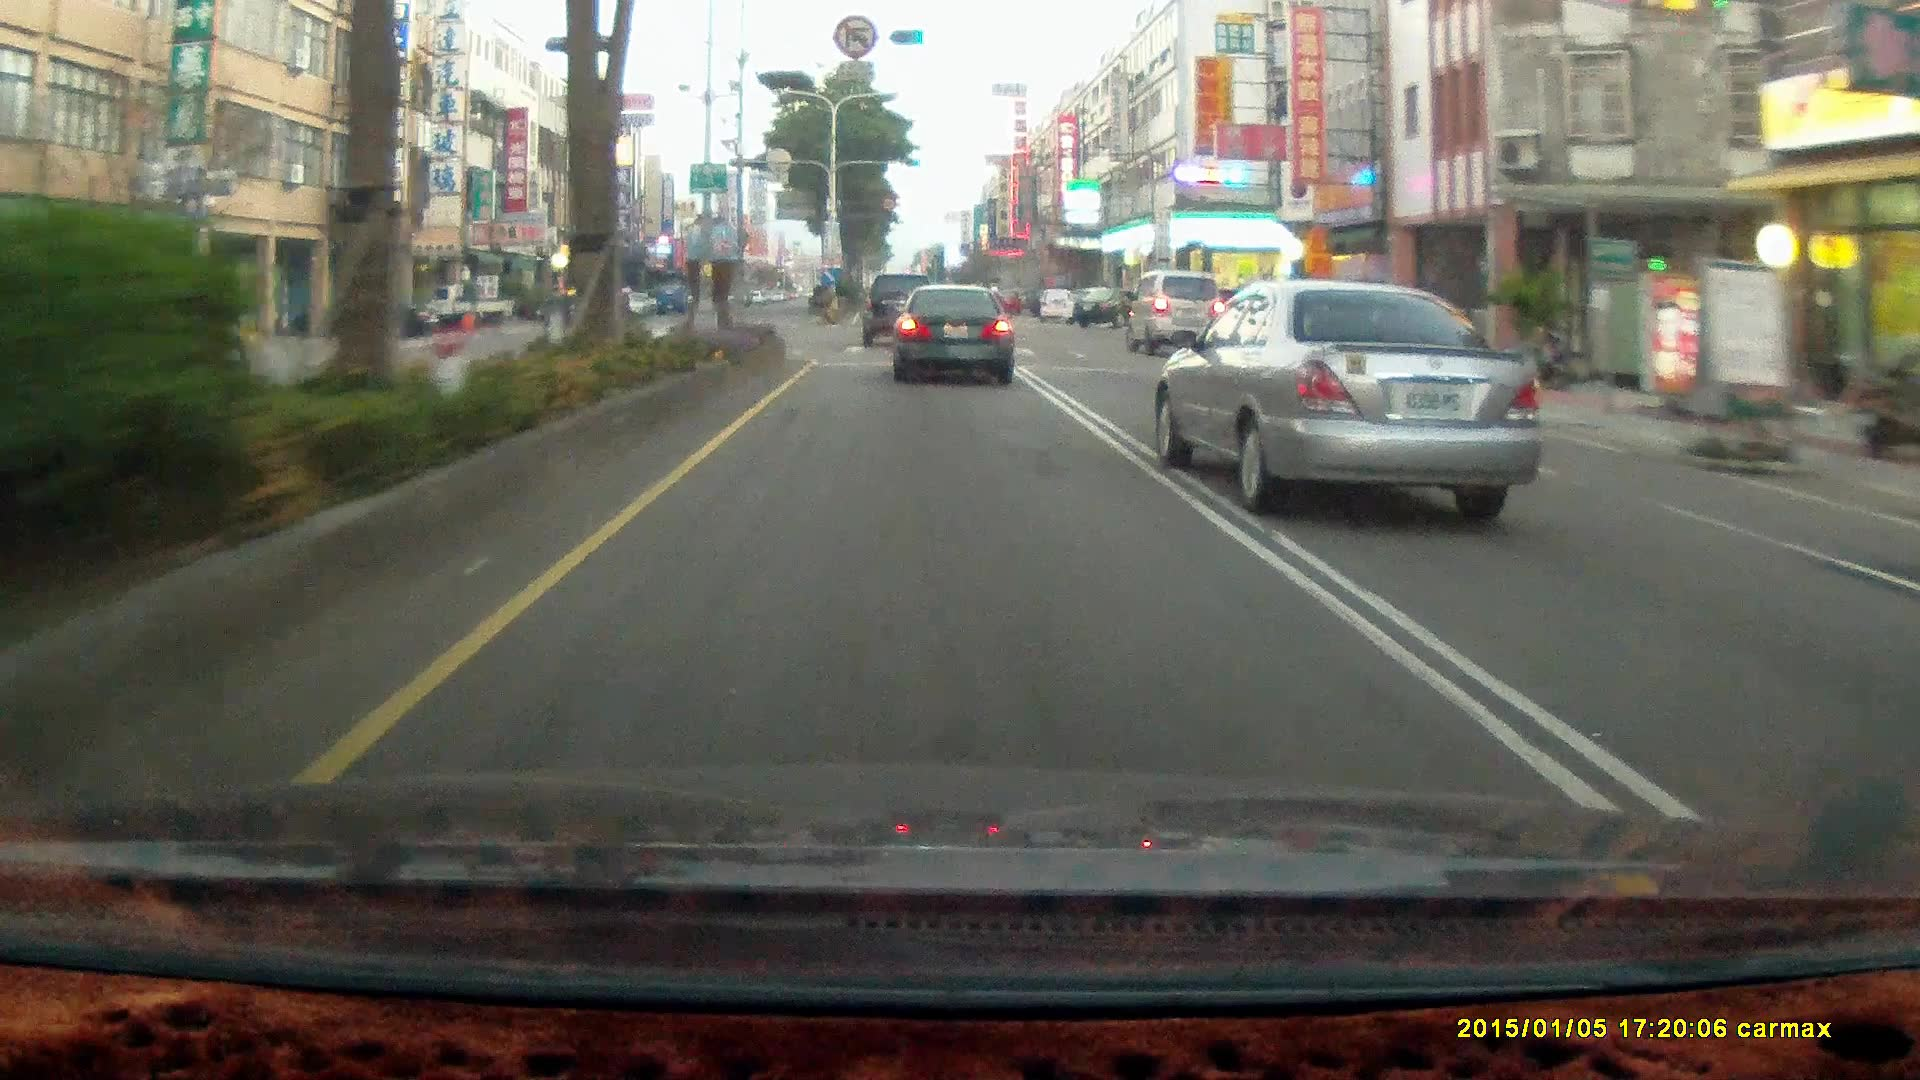vehicle: (1159, 281, 1557, 516), (897, 284, 1018, 386), (891, 284, 1011, 385), (1127, 269, 1225, 359), (1126, 268, 1222, 357), (861, 272, 940, 349), (862, 272, 938, 345), (422, 286, 516, 334), (419, 281, 512, 328), (1073, 284, 1146, 326), (1036, 286, 1077, 320)
